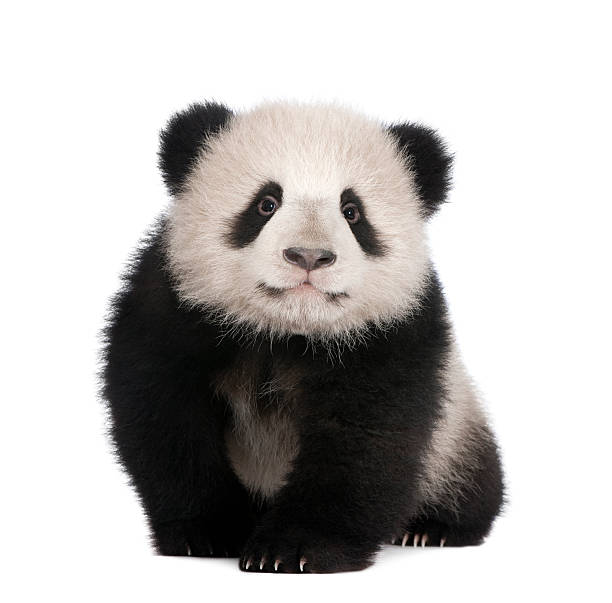panda: (131, 68, 496, 377)
